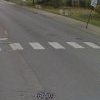crosswalk: (0, 41, 99, 51)
